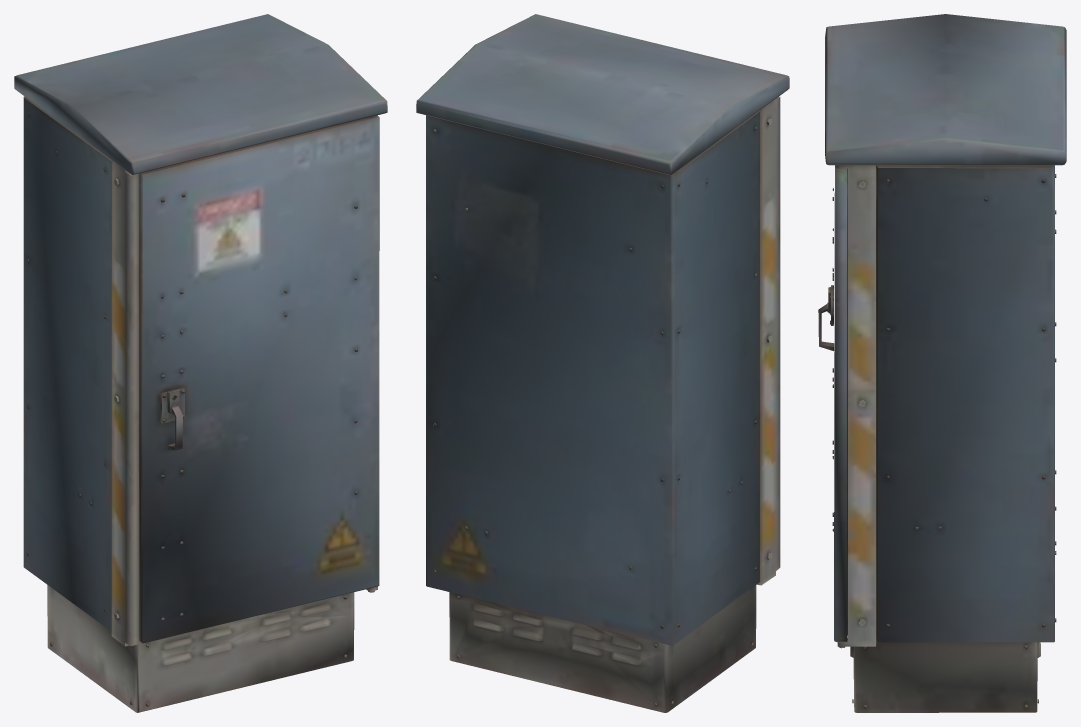
Rendered from utility_box_01.glb.
3 views of the same model, side by side, from view 1: azimuth 30°, elevation 25°; view 2: azimuth 150°, elevation 25°; view 3: azimuth 270°, elevation 25° (orthographic).
Visible parts, largest first — view 1: utility_box_01_box; view 2: utility_box_01_box; view 3: utility_box_01_box.
Part boxes in pixels (bbox=[...]): utility_box_01_box: bbox=[14, 14, 387, 712]; utility_box_01_box: bbox=[416, 14, 789, 712]; utility_box_01_box: bbox=[818, 14, 1066, 712].
Bounding box in the file's own units: 0.52 × 1.12 × 0.4312.
Materials: 1 (1 with a texture image).
